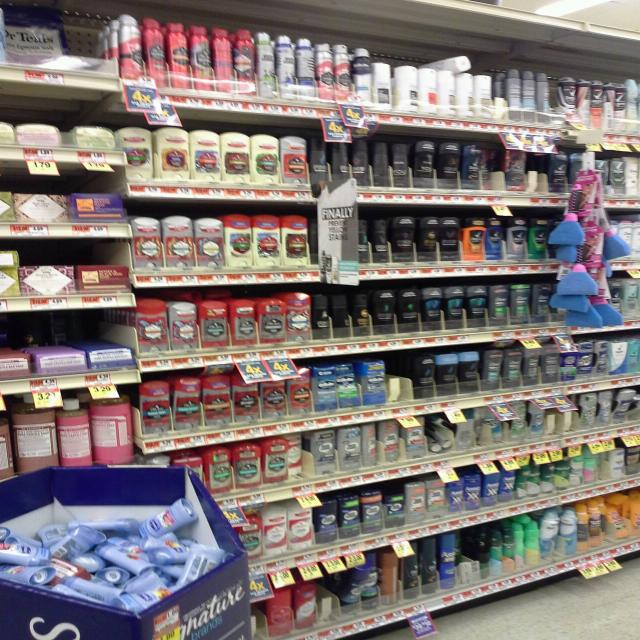unorganised: (91, 393, 133, 466), (170, 376, 202, 431), (440, 71, 474, 119), (379, 549, 402, 604), (335, 364, 362, 408), (294, 39, 315, 89), (613, 389, 638, 424), (287, 435, 307, 478), (360, 425, 380, 467), (562, 506, 578, 558), (333, 293, 352, 335), (372, 141, 390, 185), (479, 146, 497, 189), (353, 140, 370, 184), (432, 55, 471, 74), (312, 139, 330, 180), (391, 141, 407, 187), (456, 418, 479, 449), (535, 73, 549, 115), (334, 143, 349, 175)
